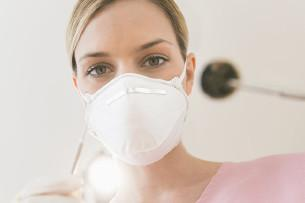OK: (74, 34, 189, 164)
